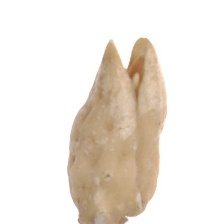L1: (107, 34, 149, 95)
L2: (67, 35, 169, 224)
